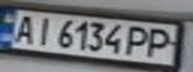1: (69, 18, 90, 52)
3: (87, 20, 106, 53)
4: (103, 20, 127, 55)
6: (54, 17, 75, 50)
A: (9, 11, 39, 44)
I: (30, 15, 57, 46)
P: (142, 26, 175, 60), (124, 24, 154, 57)
